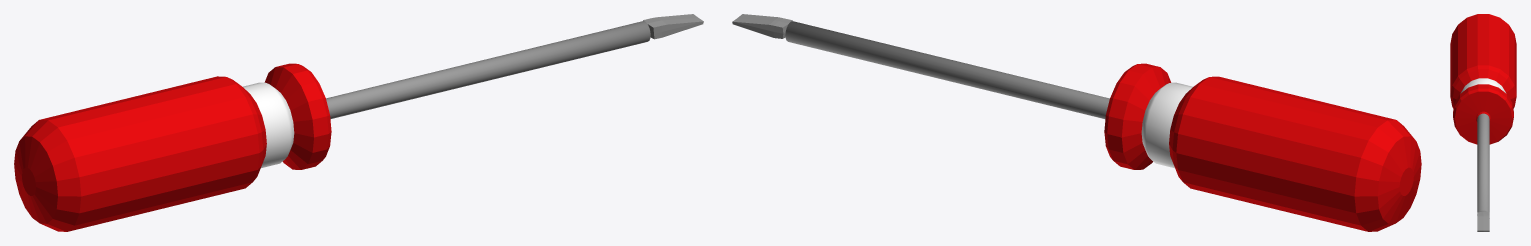
File: screwdriver.fbx
3 renders of one model, left to right at view 1: azimuth 30°, elevation 25°; view 2: azimuth 150°, elevation 25°; view 3: azimuth 270°, elevation 25°, orthographic. The views are drawn at different scales.
Parts seen in each view (by area): view 1: Cylinder.001, Cylinder, Cylinder.002, Cylinder.003, Cube; view 2: Cylinder.001, Cylinder, Cylinder.002, Cylinder.003, Cube; view 3: Cylinder.001, Cylinder.002, Cylinder, Cube, Cylinder.003.
Part boxes in pixels (bbox=[...]): Cylinder.001: bbox=[14, 76, 266, 231]; Cylinder: bbox=[326, 21, 650, 119]; Cylinder.002: bbox=[264, 63, 331, 169]; Cylinder.003: bbox=[242, 82, 294, 167]; Cube: bbox=[643, 14, 703, 39]; Cylinder.001: bbox=[1169, 76, 1421, 231]; Cylinder: bbox=[785, 21, 1109, 118]; Cylinder.002: bbox=[1104, 63, 1171, 169]; Cylinder.003: bbox=[1141, 82, 1192, 168]; Cube: bbox=[732, 14, 792, 38]; Cylinder.001: bbox=[1450, 14, 1516, 108]; Cylinder.002: bbox=[1453, 84, 1513, 144]; Cylinder: bbox=[1477, 113, 1489, 212]; Cube: bbox=[1477, 211, 1489, 231]; Cylinder.003: bbox=[1460, 78, 1506, 93].
Bounding box in the file's own units: 438 × 65 × 63.73.
